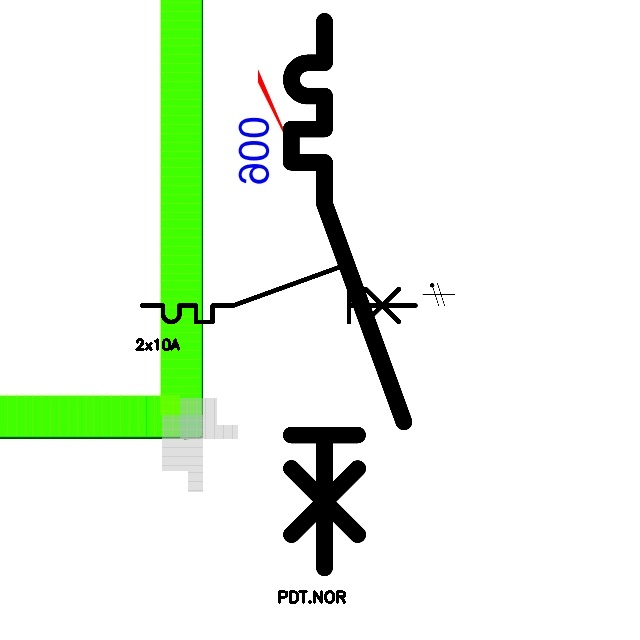interruptor_termomagnetico: (277, 7, 417, 581), (135, 259, 422, 329)
